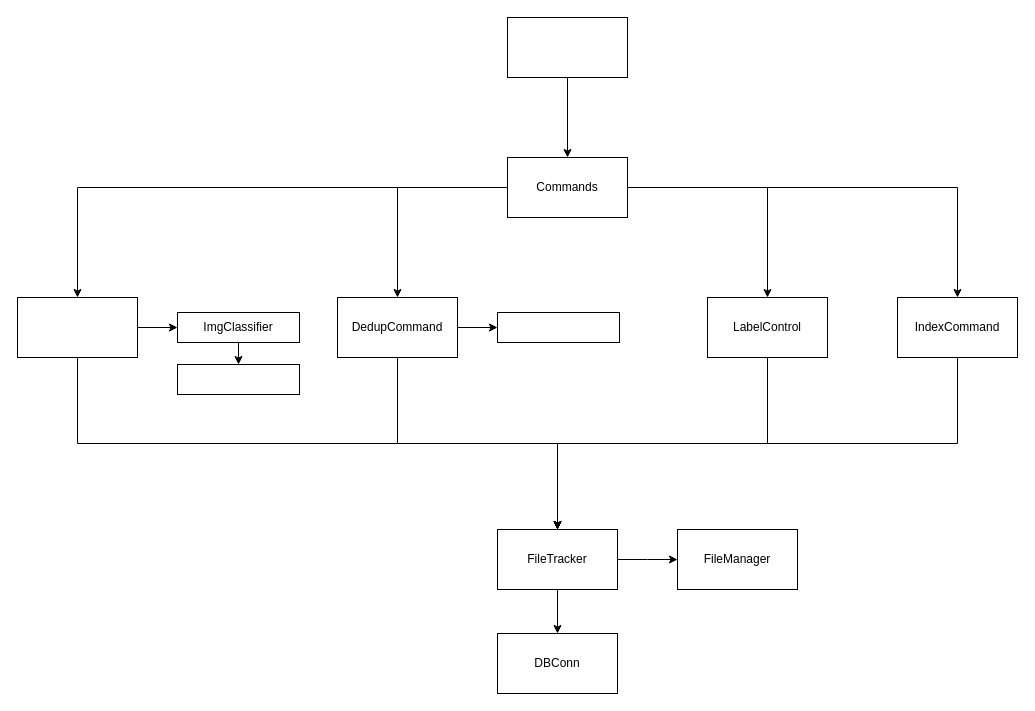
Image size: 1035x711. Some labels were removed from this diagram. The shapes that lost their labels are listed below. From the top down, each one's centre as x and y in pixels, then its label:
[567,47]: UserInterface
[77,327]: ClassifyCommand
[558,327]: ImgSimilarity
[238,379]: ArtifactRegistry
